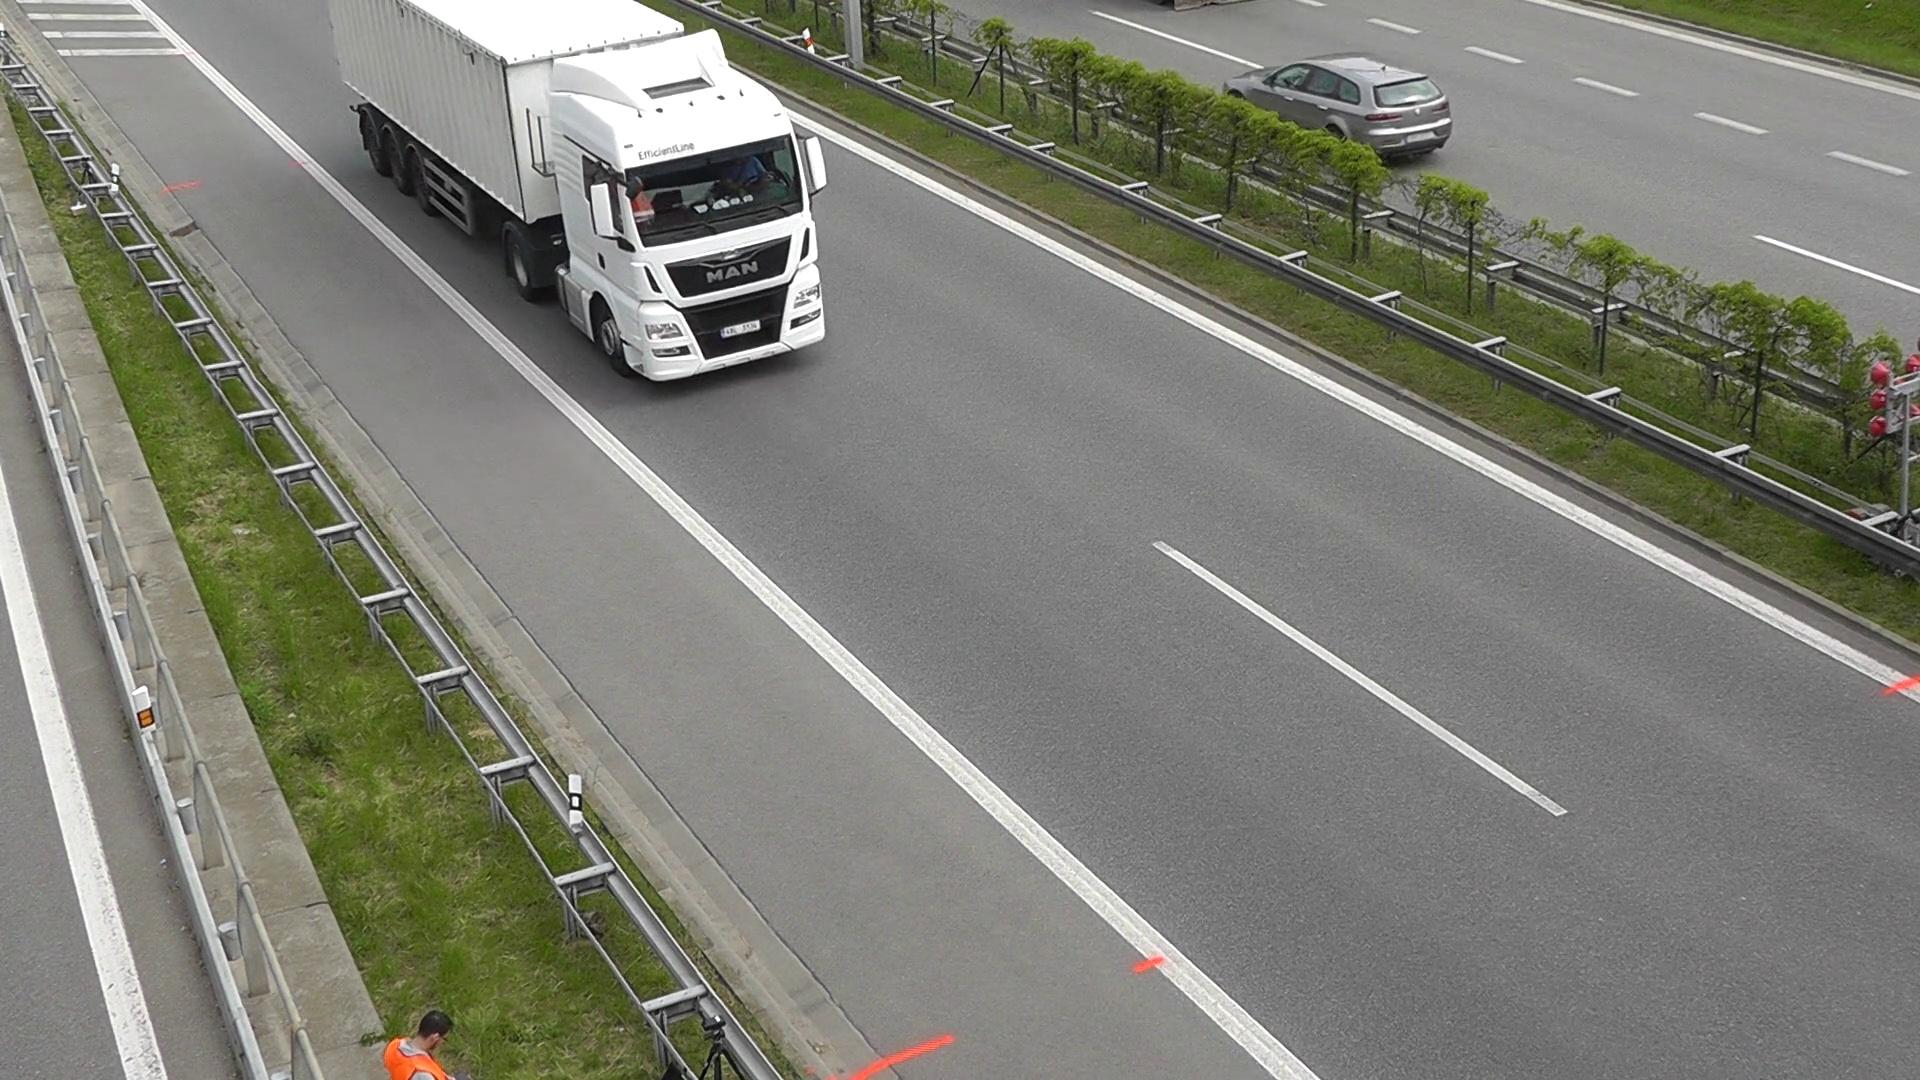Car: (1232, 44, 1461, 164)
Human: (339, 1005, 492, 1078)
Pedestrian: (190, 771, 776, 1076)
Truck: (310, 0, 862, 383)
